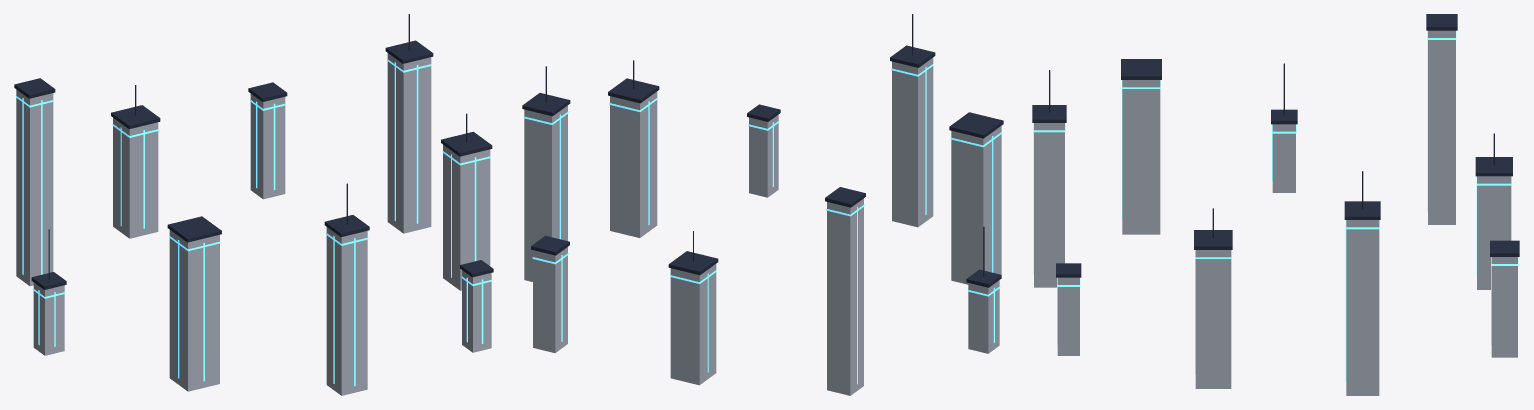
3 views of the same model, side by side, from view 1: azimuth 30°, elevation 25°; view 2: azimuth 150°, elevation 25°; view 3: azimuth 270°, elevation 25° (orthographic). The views are drawn at different scales.
Parts seen in each view (by area): view 1: nexo_spires_arcade.lod0; view 2: nexo_spires_arcade.lod0; view 3: nexo_spires_arcade.lod0.
Part boxes in pixels (x1=…): nexo_spires_arcade.lod0: x1=14, y1=14, x2=493, y2=395; nexo_spires_arcade.lod0: x1=522, y1=14, x2=1003, y2=395; nexo_spires_arcade.lod0: x1=1032, y1=14, x2=1519, y2=395.
Size of the model in its own units: 25.99 by 12.3 by 24.95.
